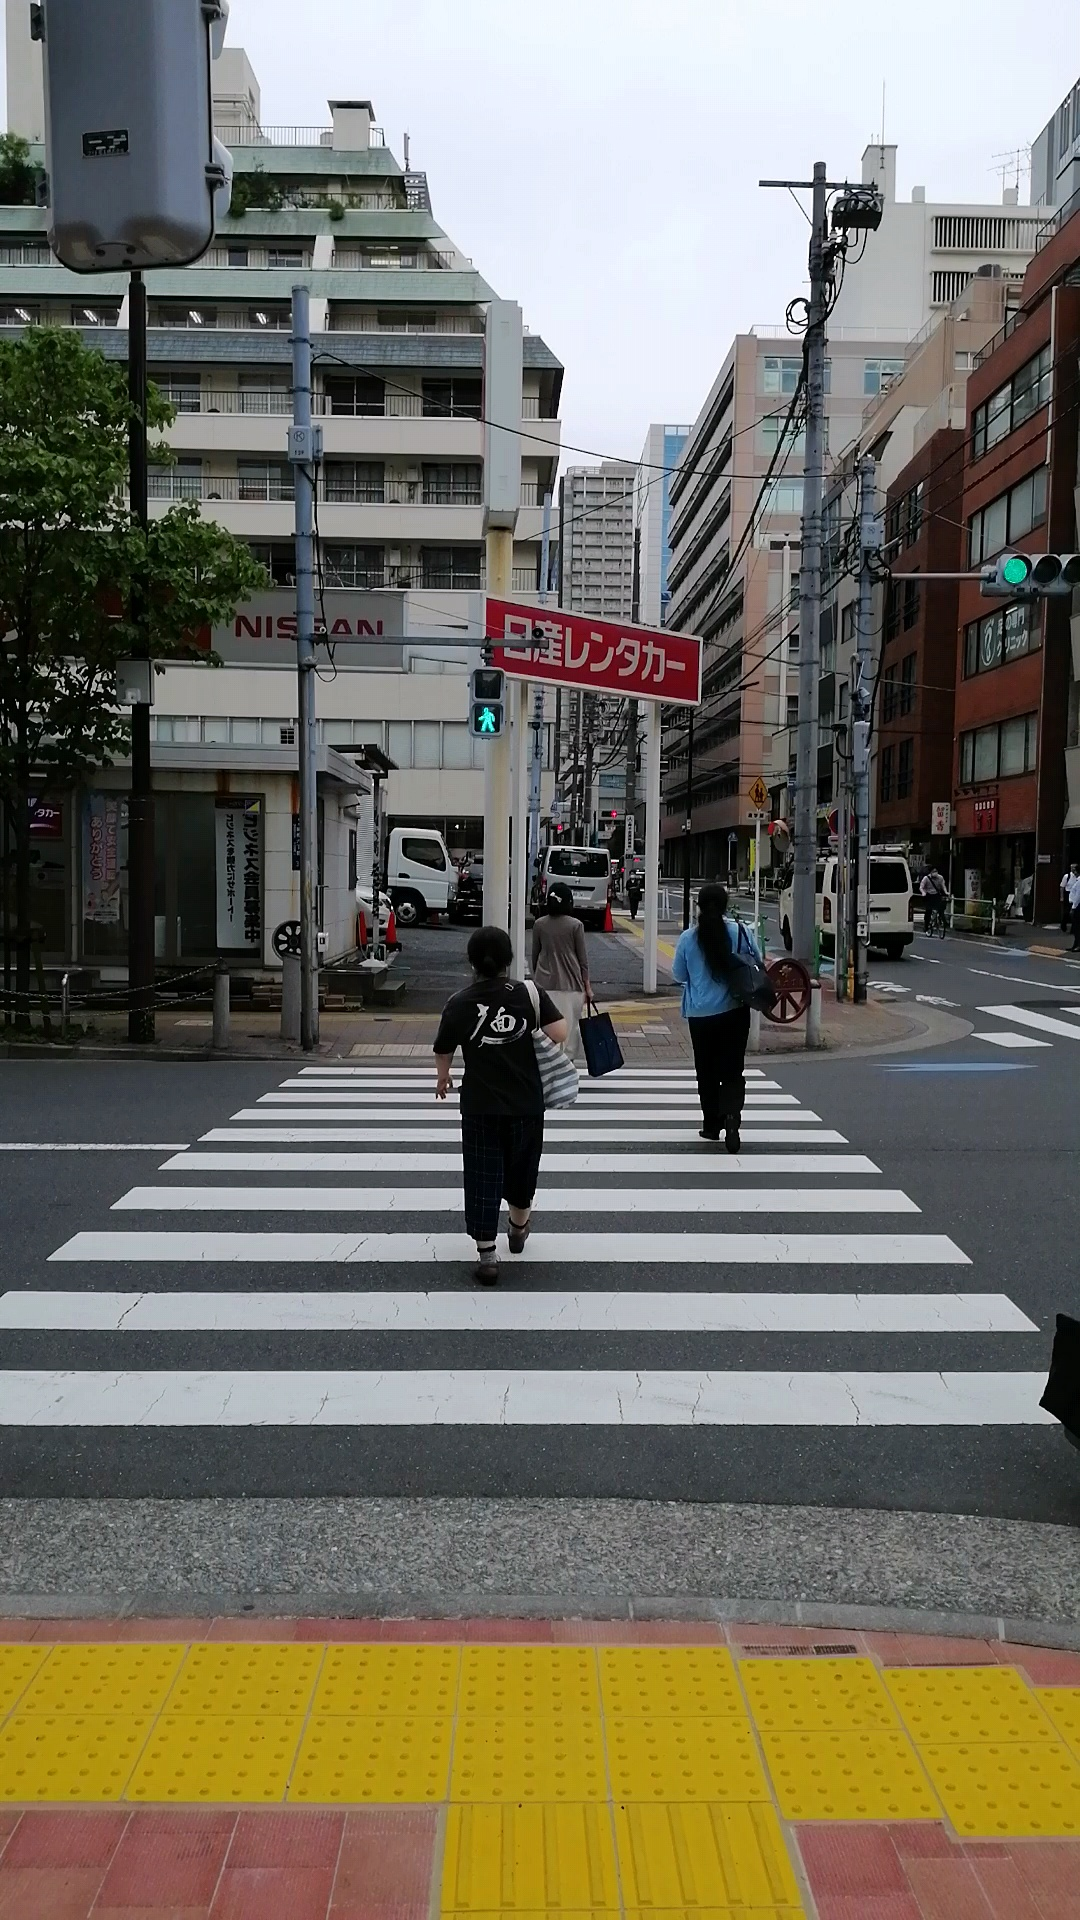green: (467, 665, 506, 742)
